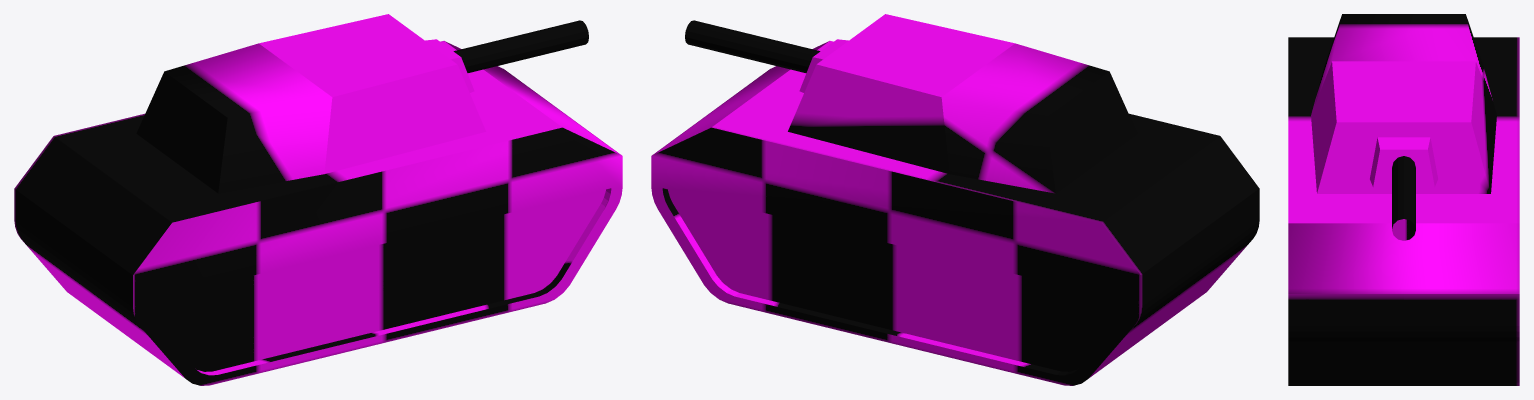
The model's file is MediumTankMesh.fbx.
3 views of the same model, side by side, from view 1: azimuth 30°, elevation 25°; view 2: azimuth 150°, elevation 25°; view 3: azimuth 270°, elevation 25° (orthographic). The views are drawn at different scales.
Parts seen in each view (by area): view 1: Cube; view 2: Cube; view 3: Cube.
Boxes of the visible parts, x1,y1,x2,y2 form: Cube: [14, 14, 622, 385]; Cube: [651, 14, 1259, 385]; Cube: [1288, 14, 1519, 385].
Size of the model in its own units: 248 by 110 by 100.
